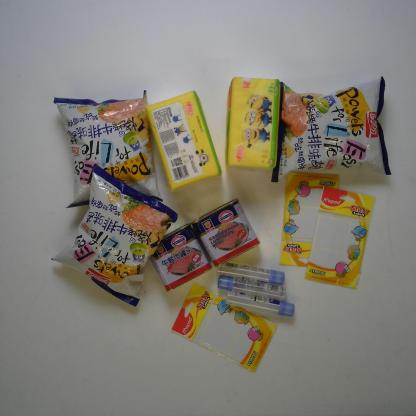Canned Food: (190, 197, 261, 268), (149, 222, 212, 293)
Puffed Food: (49, 163, 179, 307), (53, 89, 164, 209), (271, 75, 392, 184)
Stationery: (171, 282, 278, 374), (304, 186, 376, 290), (276, 171, 340, 268), (216, 261, 286, 290), (217, 274, 287, 303), (226, 291, 296, 318)
Tissue: (145, 90, 223, 194), (225, 75, 282, 172)
